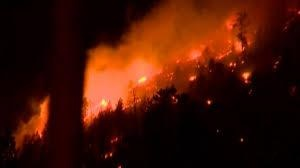fire: (12, 93, 51, 148)
